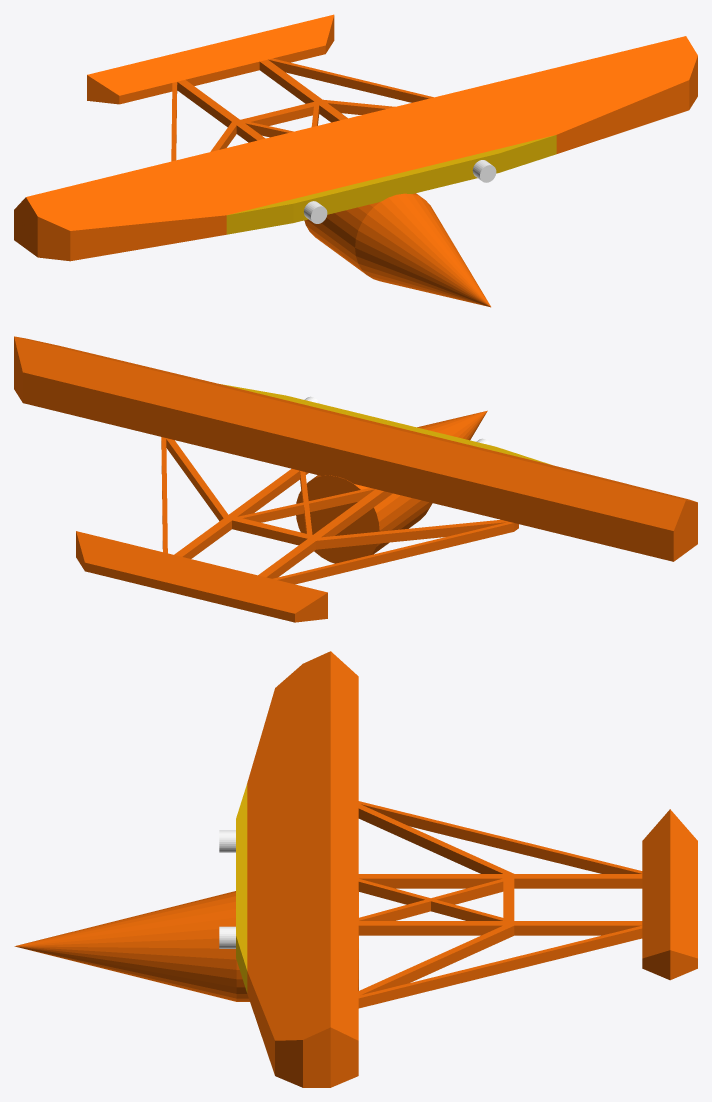
Rendered from WrightMilitaryFlyerOrange.dae.
3 renders of one model, top to bottom at view 1: azimuth 30°, elevation 25°; view 2: azimuth 150°, elevation 25°; view 3: azimuth 270°, elevation 25°, orthographic. The views are drawn at different scales.
Visible parts, largest first — view 1: Cube.008, Cone, Cube.011, Cube.006, Cube.001, Cube.003, Cube.000, Cube.010; view 2: Cube.008, Cube.011, Cone, Cube.001, Cube.002, Cube.010, Cube.000, Cube.006, Cube.004, Cube.003; view 3: Cube.008, Cone, Cube.011, Cube.001, Cube.003, Cube.000, Cube.010, Cube.002, Cube.006, Cube.005, Cube.004.
Boxes of the visible parts, left/top/right/bottom form: Cube.008: left=14, top=36, right=697, bottom=261; Cone: left=304, top=193, right=490, bottom=307; Cube.011: left=87, top=14, right=334, bottom=104; Cube.006: left=226, top=135, right=556, bottom=234; Cube.001: left=210, top=99, right=395, bottom=151; Cube.003: left=268, top=58, right=433, bottom=102; Cube.000: left=259, top=59, right=347, bottom=122; Cube.010: left=177, top=79, right=265, bottom=142; Cube.008: left=14, top=336, right=697, bottom=561; Cube.011: left=76, top=531, right=327, bottom=622; Cone: left=296, top=410, right=487, bottom=563; Cube.001: left=166, top=438, right=508, bottom=549; Cube.002: left=272, top=522, right=518, bottom=584; Cube.010: left=258, top=489, right=392, bottom=578; Cube.000: left=174, top=468, right=308, bottom=558; Cube.006: left=220, top=384, right=551, bottom=464; Cube.004: left=235, top=488, right=375, bottom=522; Cube.003: left=161, top=437, right=167, bottom=553; Cube.008: left=247, top=651, right=358, bottom=1087; Cone: left=14, top=891, right=358, bottom=1001; Cube.011: left=642, top=809, right=697, bottom=980; Cube.001: left=358, top=803, right=514, bottom=995; Cube.003: left=358, top=926, right=642, bottom=1008; Cube.000: left=358, top=921, right=642, bottom=935; Cube.010: left=358, top=874, right=642, bottom=888; Cube.002: left=358, top=801, right=642, bottom=873; Cube.006: left=236, top=783, right=247, bottom=992; Cube.005: left=358, top=878, right=512, bottom=920; Cube.004: left=358, top=879, right=505, bottom=920.
Size of the model in its own units: 16 by 12.29 by 3.12.
